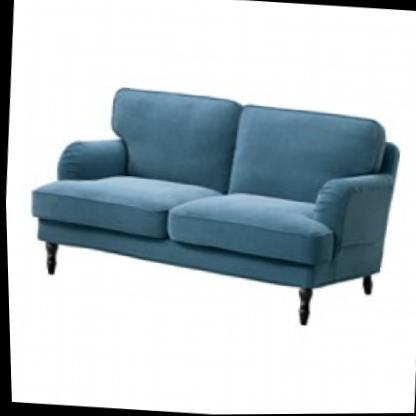Sofa: (11, 55, 408, 340)
